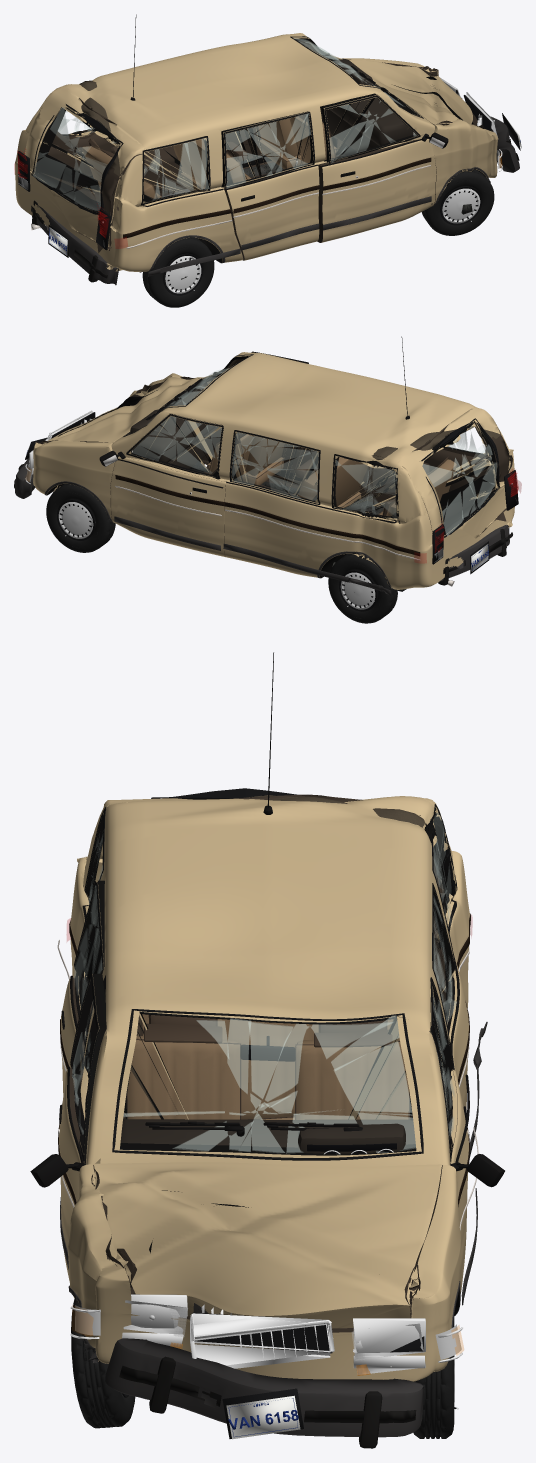
The model's file is minivan86_front_corner_R_d1_lod1.glb.
The picture shows the model from 3 angles, top to bottom: view 1: azimuth 30°, elevation 25°; view 2: azimuth 150°, elevation 25°; view 3: azimuth 270°, elevation 25°; orthographic projection. The views are drawn at different scales.
Visible parts, largest first — view 1: Body, Interior, Door_FR, Door_SR, Liftgate, Hood, Glass_Liftgate, Wheel_RR_mesh, Wheel_FR_mesh, Glass, Glass_SR, Trim (+9 smaller); view 2: Body, Door_FL, Interior, Glass, Trim, Liftgate, Glass_Liftgate, Wheel_FL_mesh, Wheel_RL_mesh, Hood, Glass_FL, Trim_FL (+6 smaller); view 3: Body, Hood, Interior, Glass, Ends, Bumper_F, Trim, Door_FR, Wheel_FR_mesh, Door_FL, Trim_FL, Door_SR (+4 smaller).
Boxes of the visible parts, x1,y1,x2,y2 form: Body: [15, 33, 498, 271]; Interior: [82, 59, 413, 198]; Door_FR: [317, 93, 436, 242]; Door_SR: [221, 111, 319, 260]; Liftgate: [25, 86, 145, 253]; Hood: [349, 60, 472, 124]; Glass_Liftgate: [31, 104, 123, 215]; Wheel_RR_mesh: [142, 237, 214, 307]; Wheel_FR_mesh: [421, 170, 494, 235]; Glass: [58, 36, 423, 200]; Glass_SR: [223, 113, 314, 189]; Trim: [123, 14, 489, 276]; Body: [33, 352, 514, 589]; Door_FL: [110, 413, 226, 557]; Interior: [130, 385, 456, 516]; Glass: [123, 354, 477, 521]; Trim: [44, 336, 517, 595]; Liftgate: [394, 407, 509, 541]; Glass_Liftgate: [421, 418, 500, 537]; Wheel_FL_mesh: [46, 484, 115, 552]; Wheel_RL_mesh: [328, 554, 397, 623]; Hood: [47, 376, 199, 442]; Glass_FL: [131, 413, 223, 478]; Trim_FL: [99, 414, 224, 550]; Body: [68, 796, 469, 1381]; Hood: [94, 1162, 441, 1328]; Interior: [120, 1014, 415, 1154]; Glass: [89, 812, 456, 1160]; Ends: [70, 1294, 462, 1439]; Bumper_F: [105, 1338, 424, 1448]; Trim: [57, 652, 487, 1363]; Door_FR: [59, 973, 106, 1298]; Wheel_FR_mesh: [71, 1297, 135, 1428]; Door_FL: [430, 977, 468, 1293]; Trim_FL: [430, 977, 504, 1305]; Door_SR: [61, 880, 104, 1093].
Bounding box in the file's own units: 4.5 × 2.44 × 2.07.
34 materials, 5 textured.
